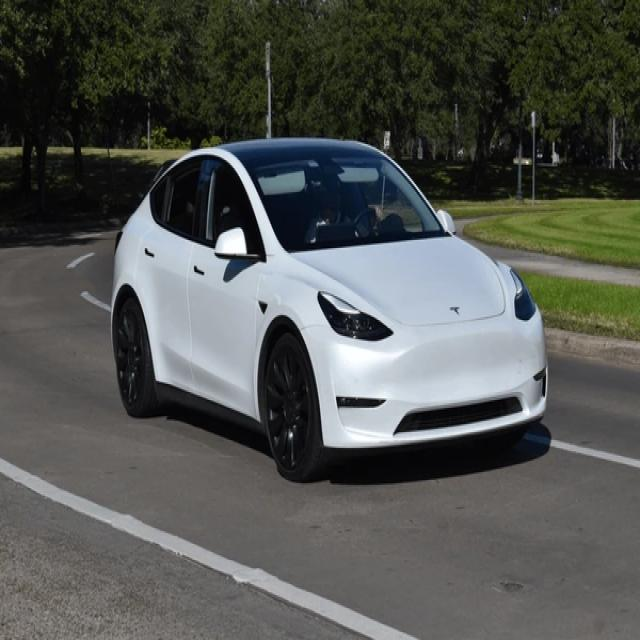tesla: (450, 303, 461, 318)
